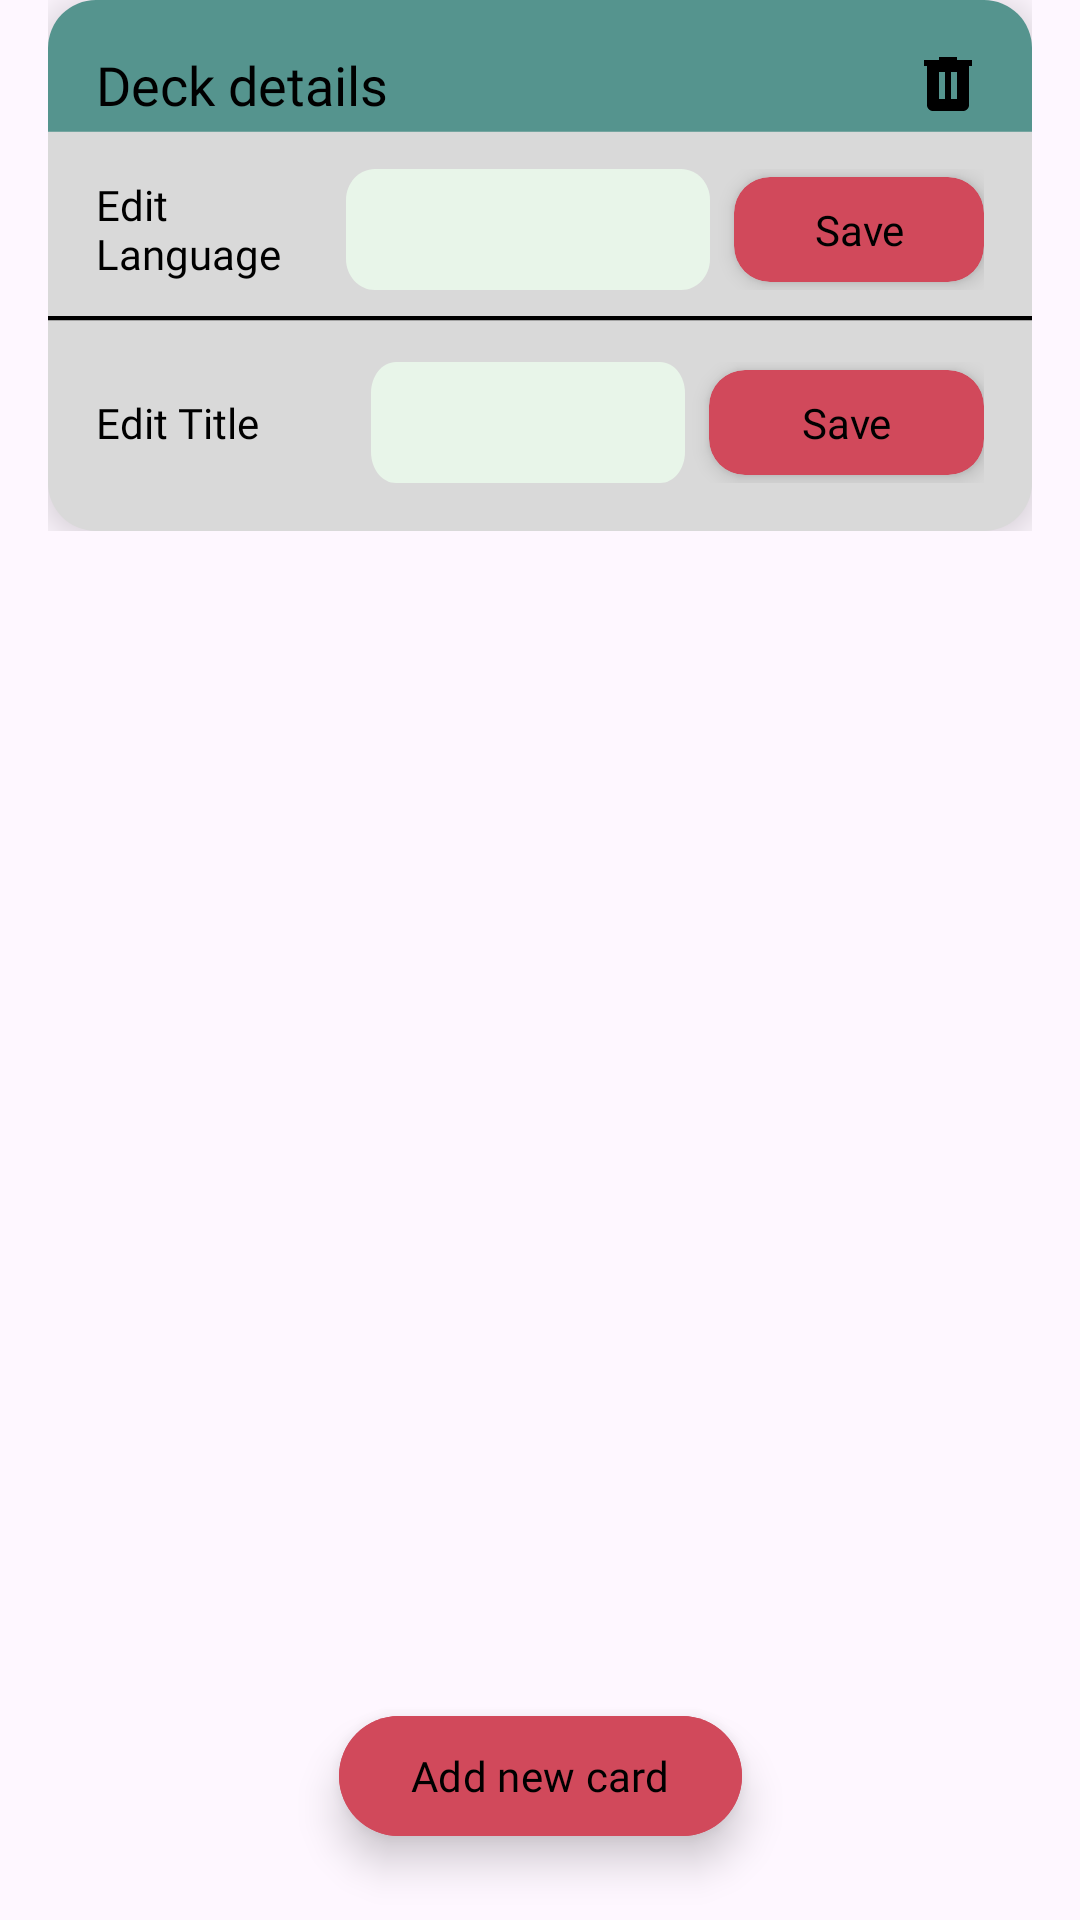

Icon bounding boxes for this 1080*1920 phone screenshot, format (left=x1, top=y1, right=x2, bottom=y2):
Delete deck: (left=924, top=57, right=972, bottom=111)
